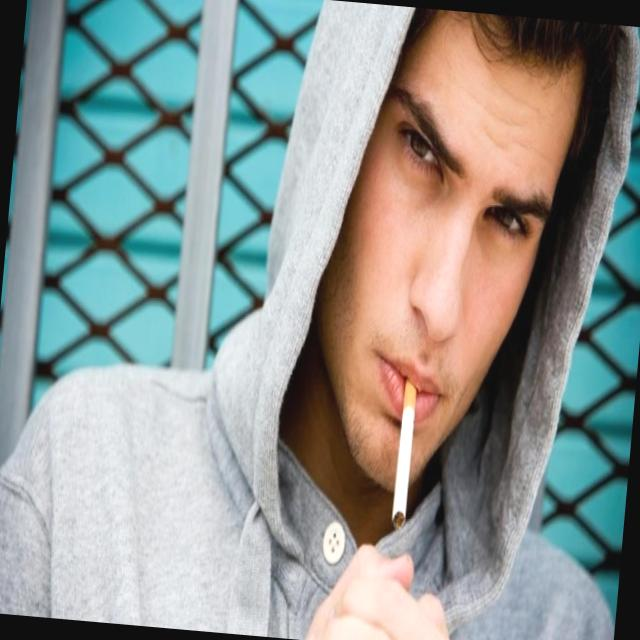smoke: (388, 377, 422, 536)
